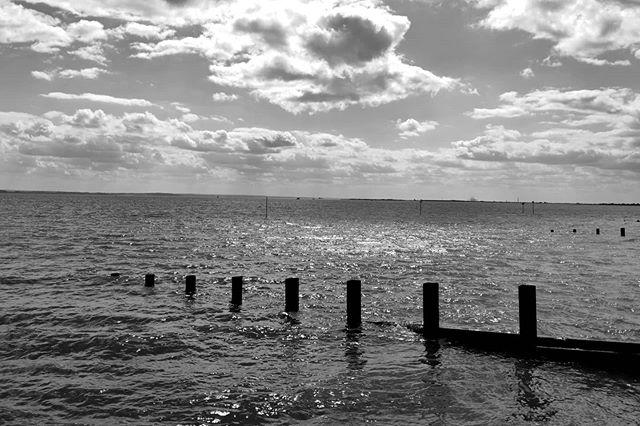sea: (2, 191, 640, 426)
sky: (1, 1, 625, 191)
